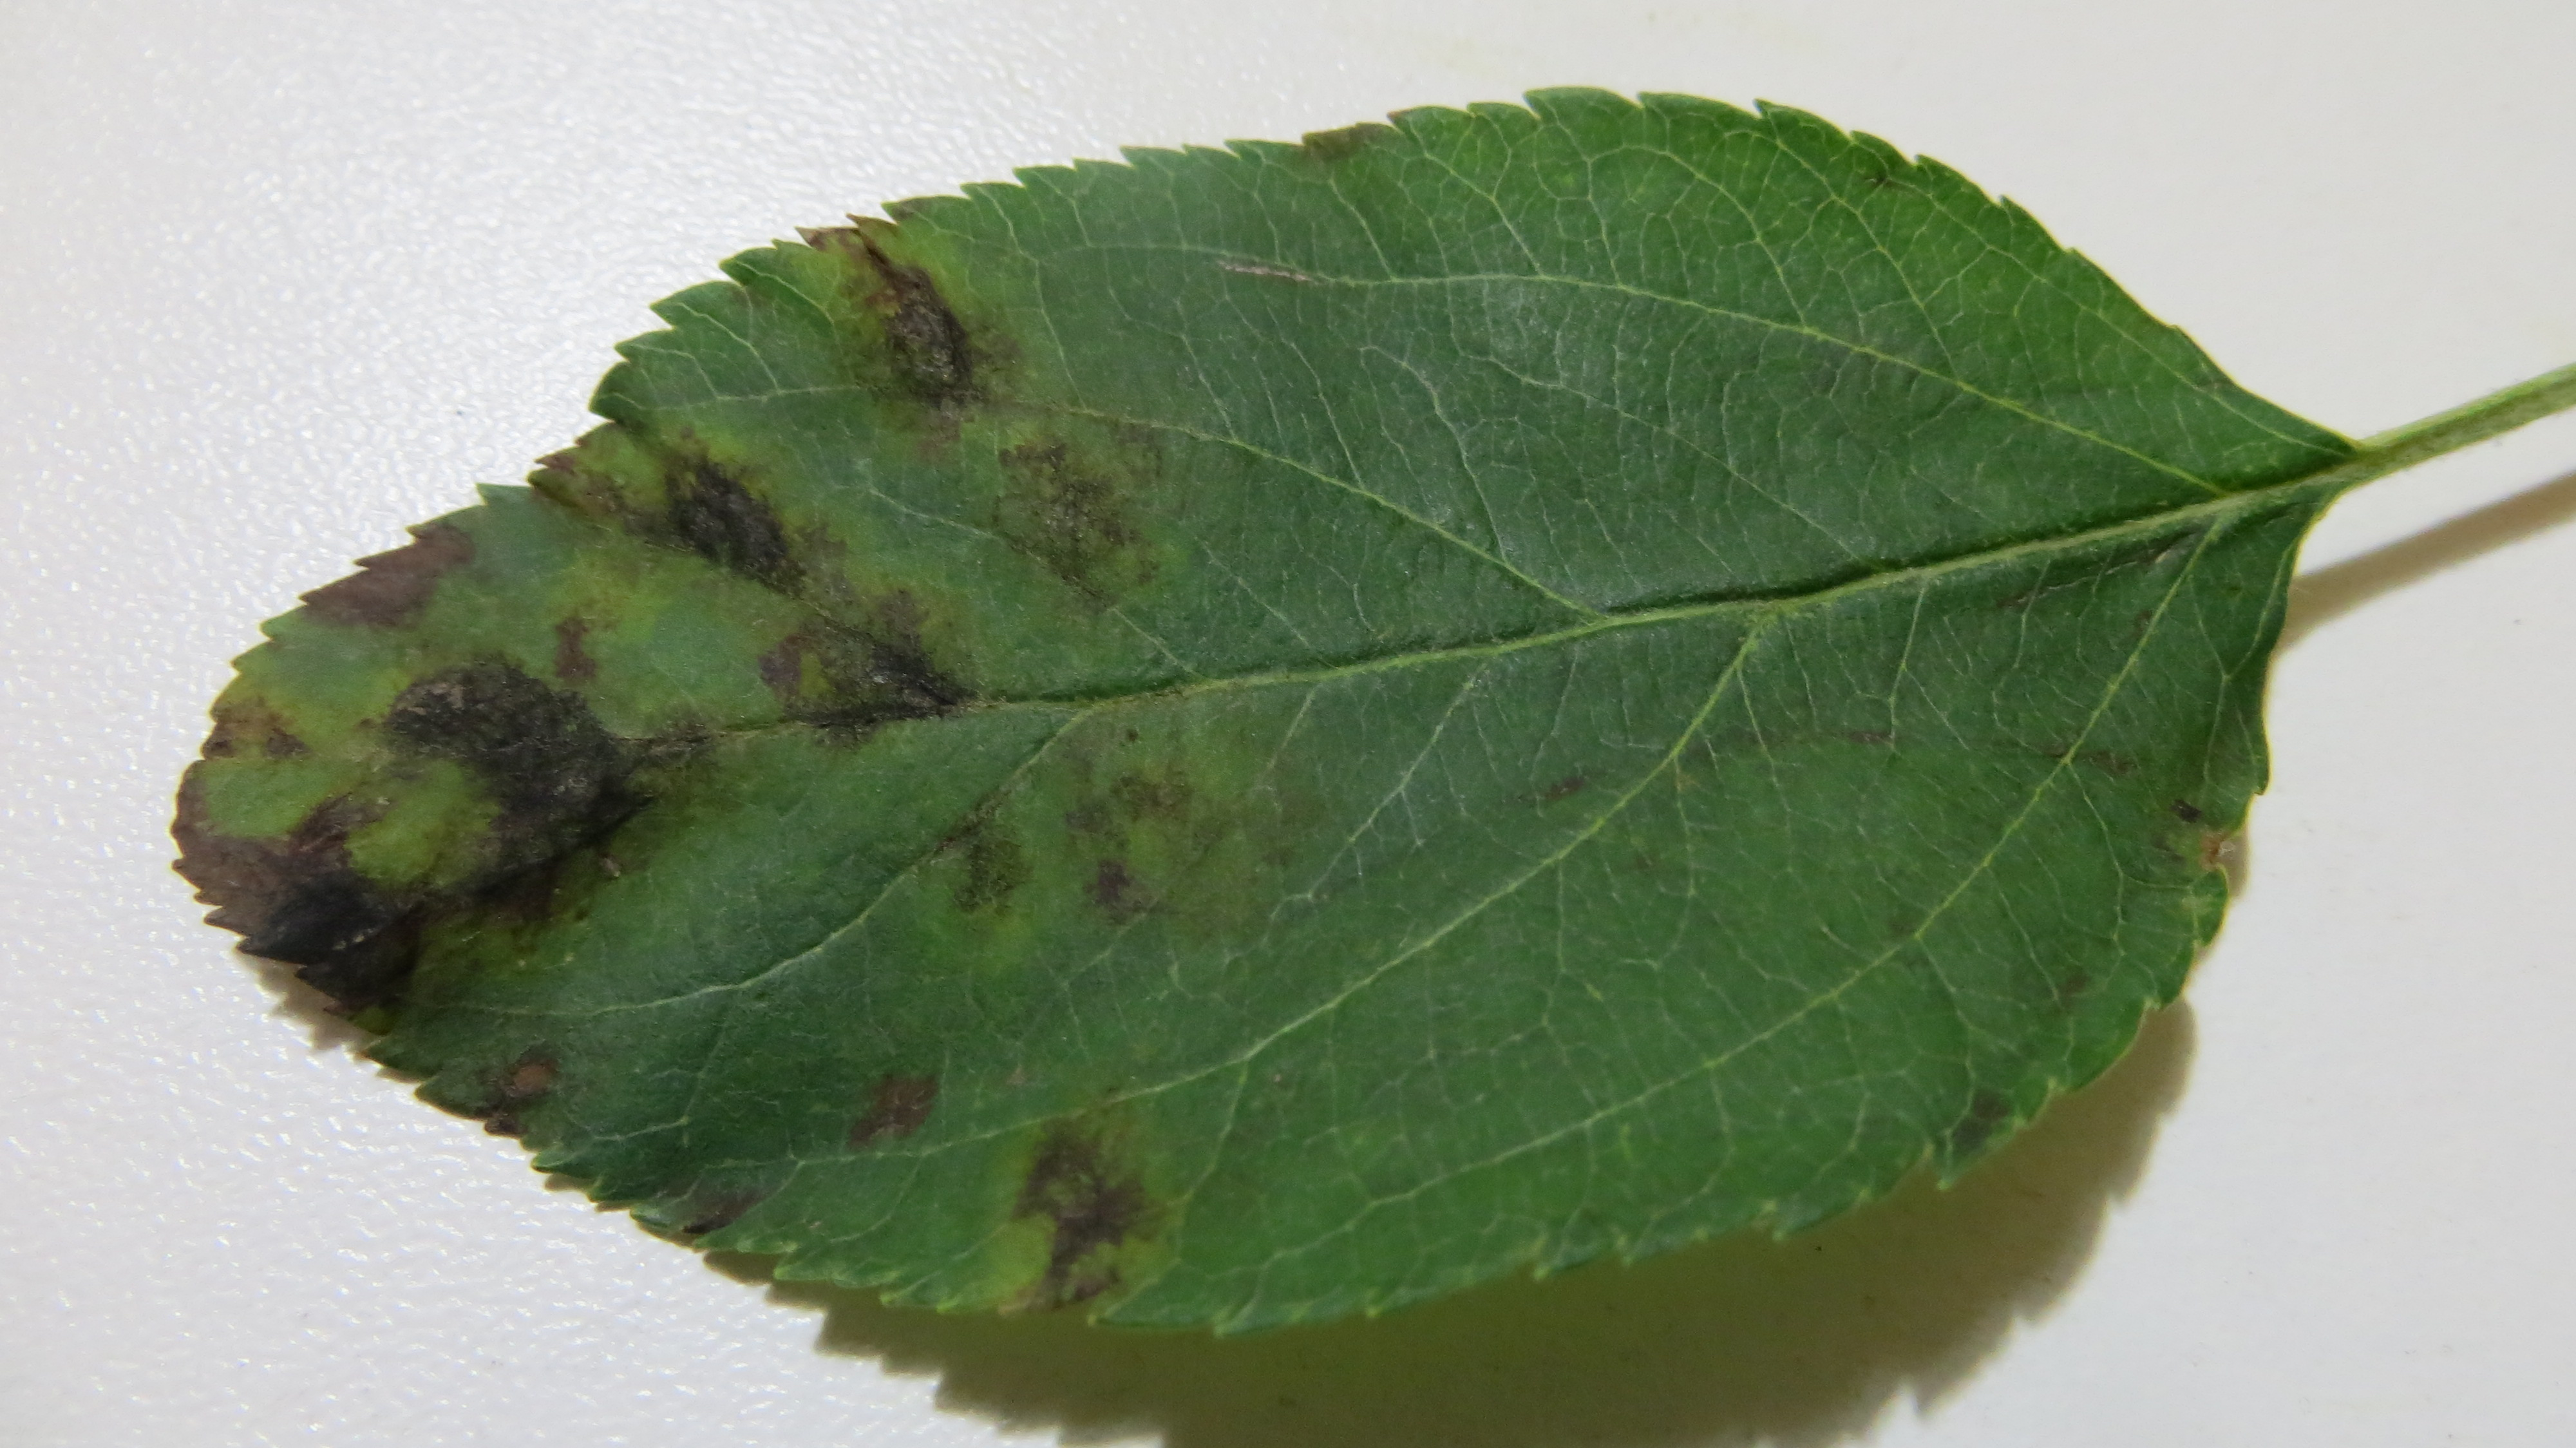sarna: (186, 788, 471, 1060), (1062, 694, 1293, 949), (978, 409, 1166, 632), (987, 1092, 1161, 1331), (757, 577, 994, 747), (839, 220, 1017, 444), (602, 420, 823, 591), (582, 690, 754, 857), (389, 643, 600, 770), (295, 513, 483, 651), (455, 754, 587, 928), (913, 784, 1049, 935), (828, 1028, 968, 1161), (458, 1025, 580, 1136), (655, 1172, 780, 1257), (520, 446, 609, 538)
